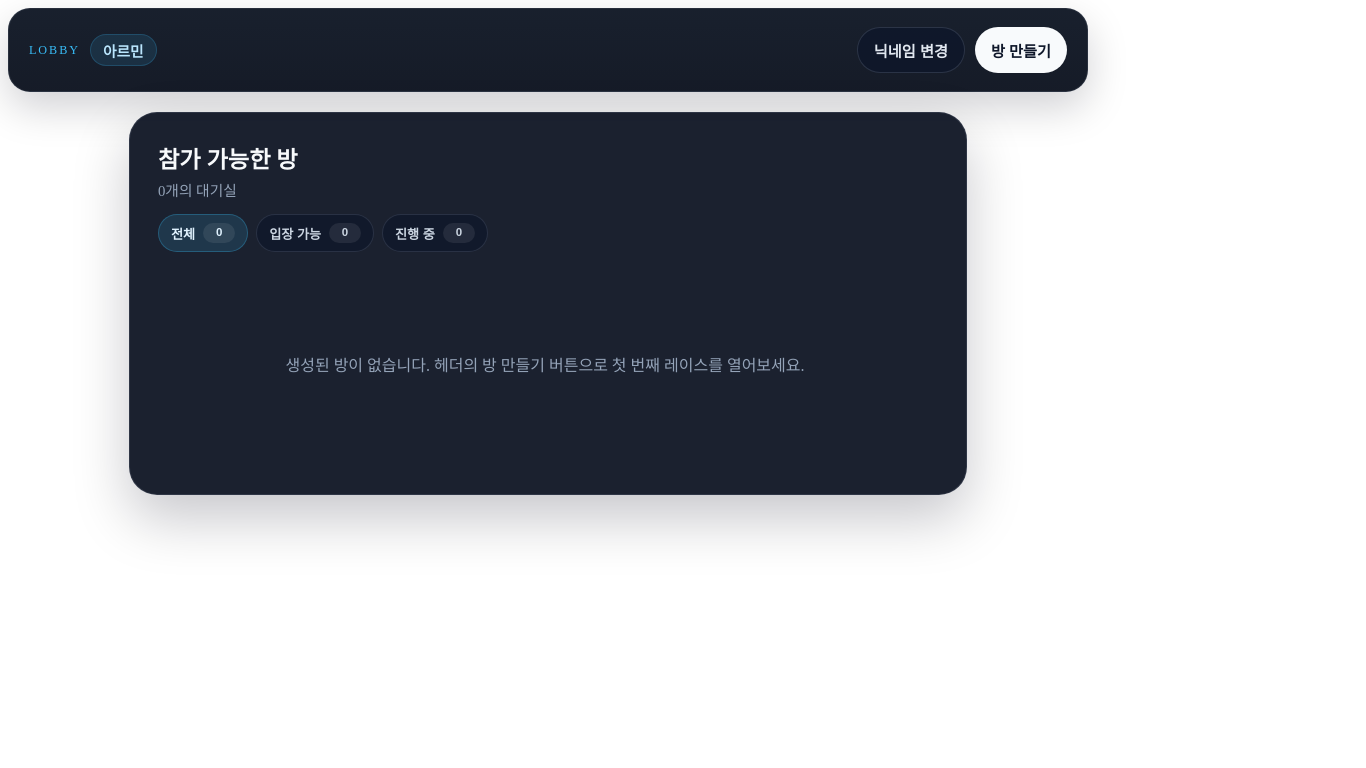
Test: RoomListPanel › renders the room mode selector with the same shell chrome used in the game room
The image size is (1366, 768).
Click the button with test id "open-create-room-dialog-button".
click(1021, 50)  # box left=975, top=27, right=1067, bottom=73
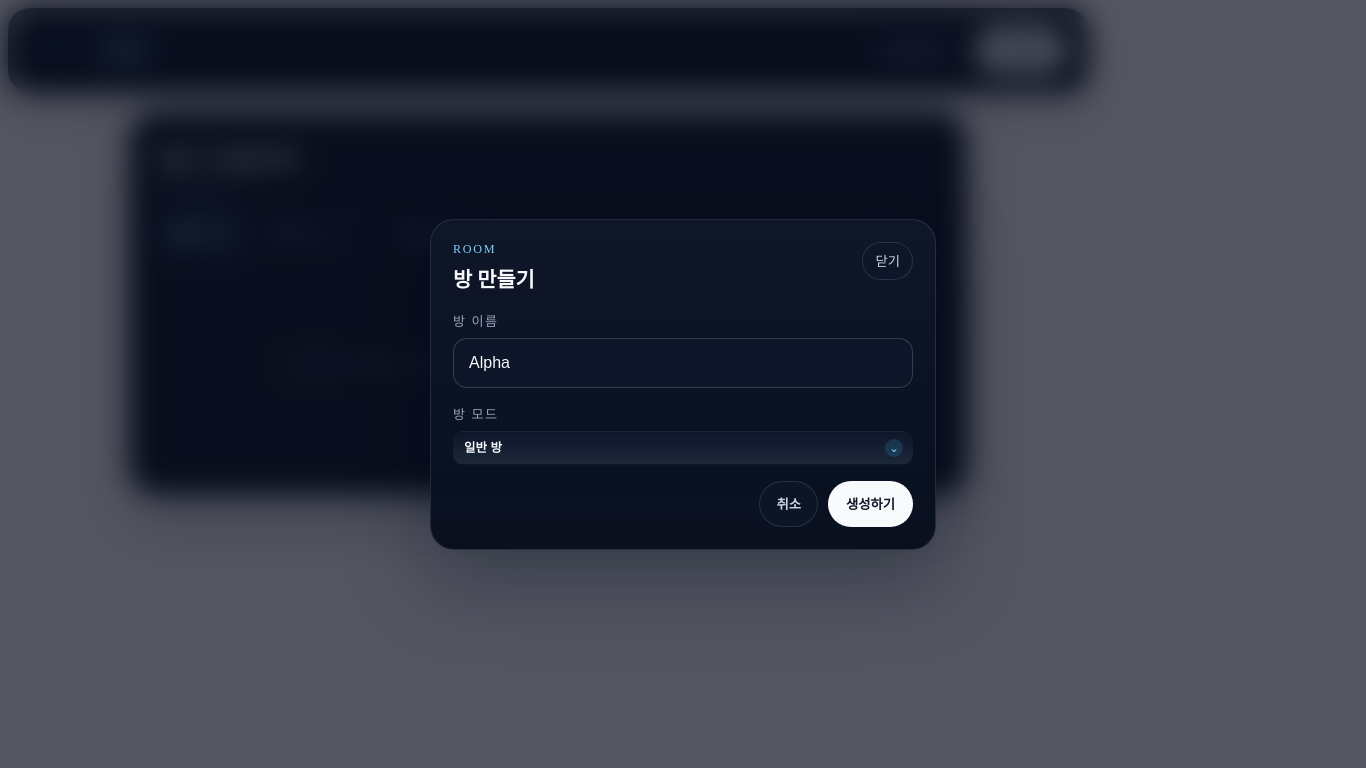
Expected: the element with test id "room-mode-select-shell" is shown, left=453, top=430, right=913, bottom=464
Expected: the text "⌄" is shown, left=885, top=438, right=903, bottom=456
